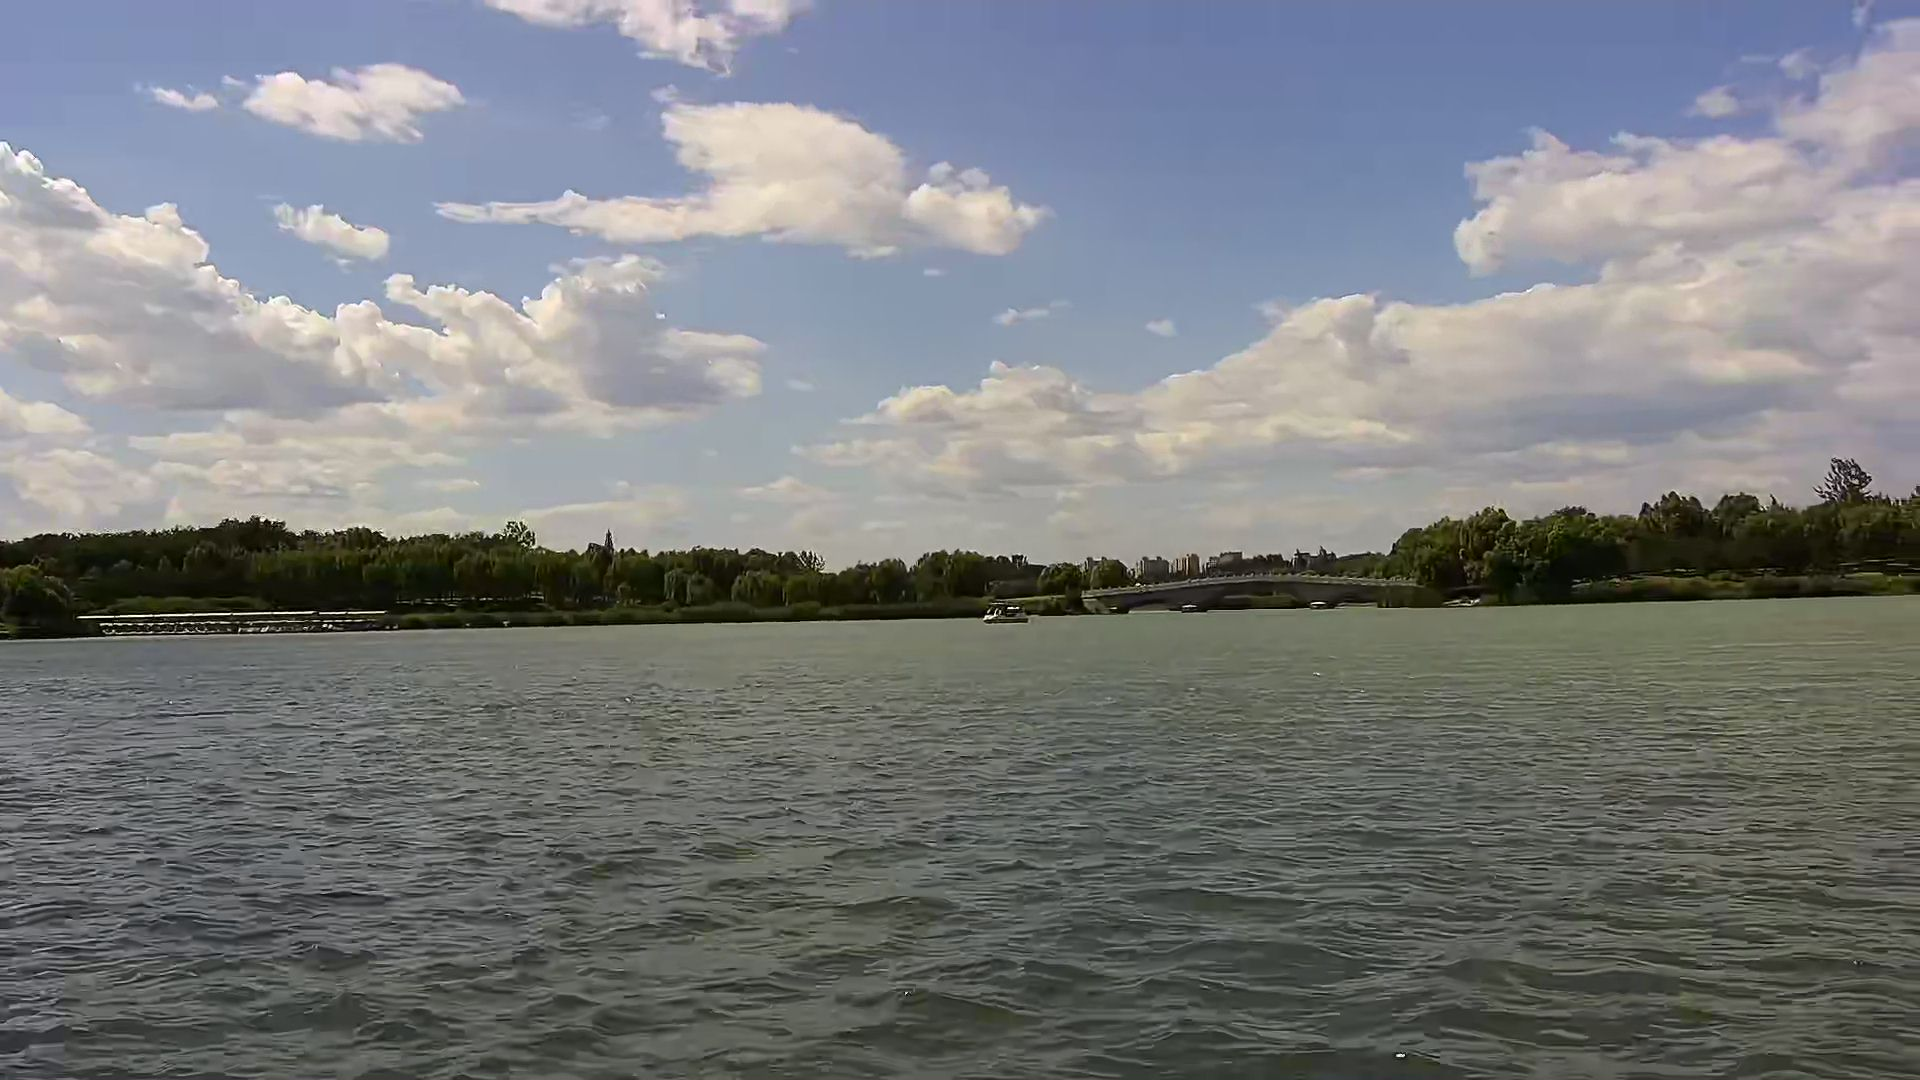boat: (981, 603, 1031, 622)
bridge: (1095, 575, 1416, 611), (96, 615, 386, 632)
